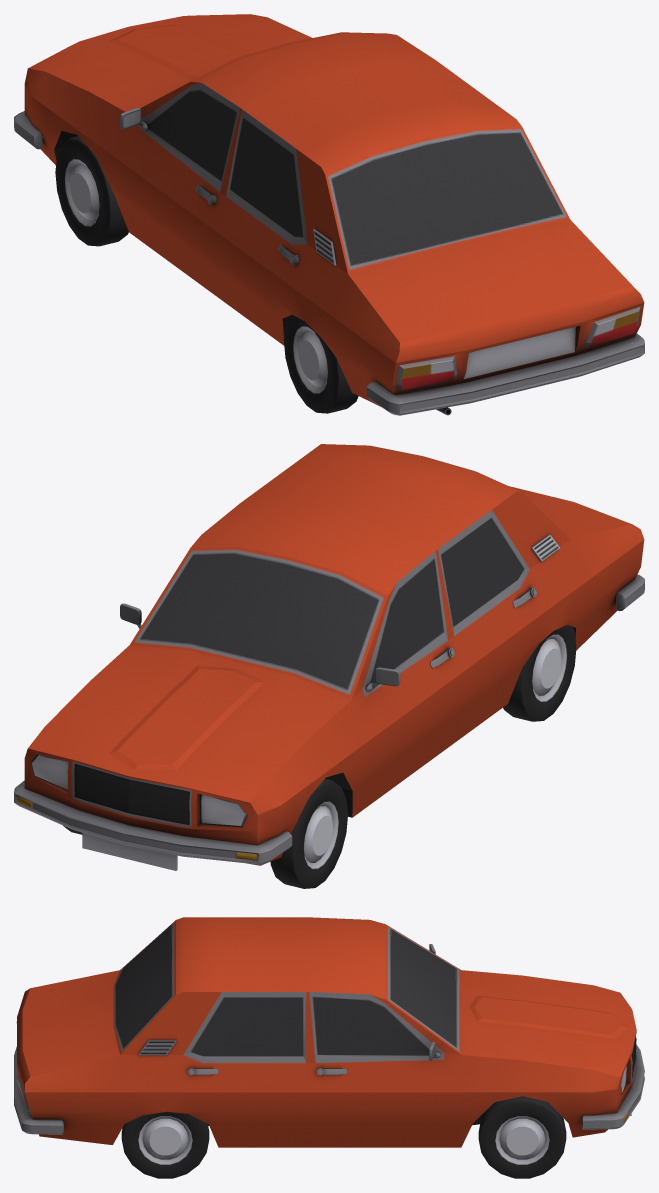
The model's file is Car03.FBX.
3 renders of one model, top to bottom at view 1: azimuth 30°, elevation 25°; view 2: azimuth 150°, elevation 25°; view 3: azimuth 270°, elevation 25°, orthographic. The views are drawn at different scales.
Visible parts, largest first — view 1: Body, FLWheel, RLWheel; view 2: Body, FLWheel, RLWheel; view 3: Body, FRWheel, RRWheel.
Boxes of the visible parts, <box> form: Body: <box>14,14,644,415</box>; FLWheel: <box>55,136,128,246</box>; RLWheel: <box>283,315,358,413</box>; Body: <box>14,444,644,870</box>; FLWheel: <box>270,778,347,888</box>; RLWheel: <box>503,625,576,721</box>; Body: <box>14,917,644,1147</box>; FRWheel: <box>478,1096,566,1178</box>; RRWheel: <box>121,1111,209,1178</box>.
Bounding box in the file's own units: 1.73 × 1.45 × 4.33.
2 materials, 2 textured.
